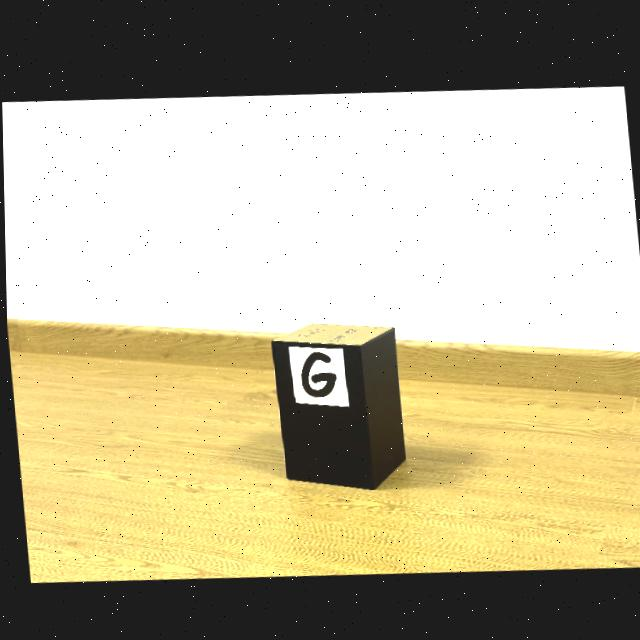G: (299, 349, 335, 395)
